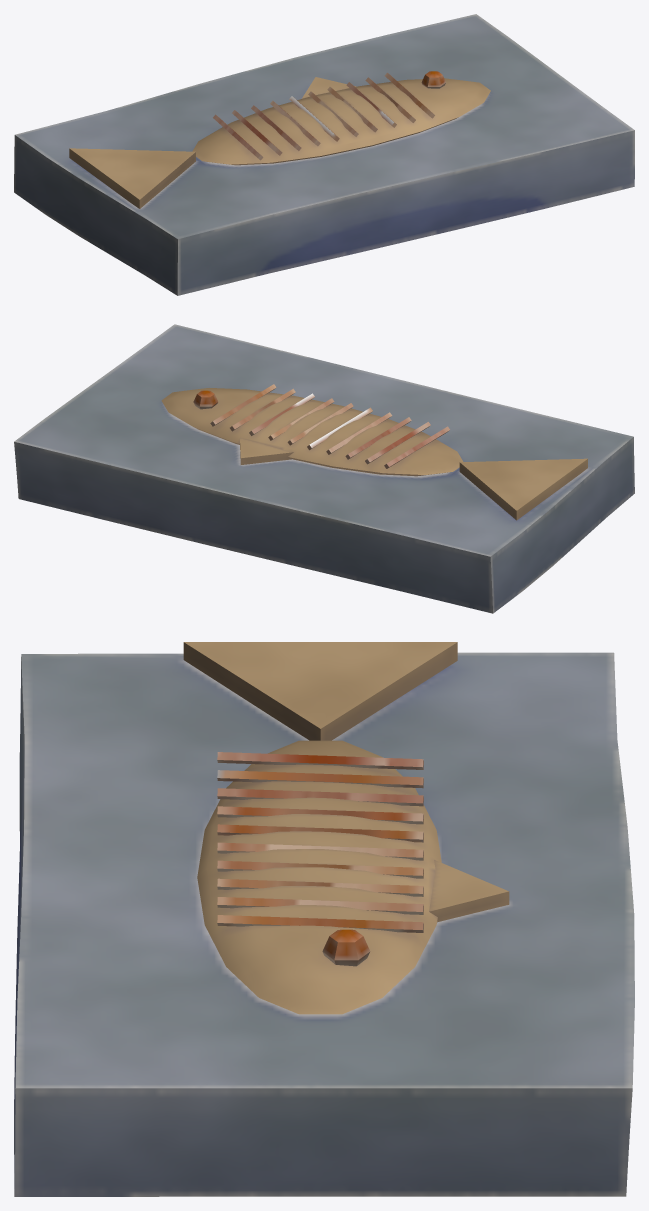
Rendered from fish_slab.glb.
3 views of the same model, one above another, from view 1: azimuth 30°, elevation 25°; view 2: azimuth 150°, elevation 25°; view 3: azimuth 270°, elevation 25° (orthographic). The views are drawn at different scales.
Visible parts, largest first — view 1: SM_FishSlab; view 2: SM_FishSlab; view 3: SM_FishSlab.
Boxes of the visible parts, x1,y1,x2,y2 form: SM_FishSlab: [14, 14, 634, 295]; SM_FishSlab: [14, 324, 634, 613]; SM_FishSlab: [14, 642, 634, 1196].
Bounding box in the file's own units: 0.6135 × 0.1064 × 0.3623.
Materials: 2 (2 with a texture image).
